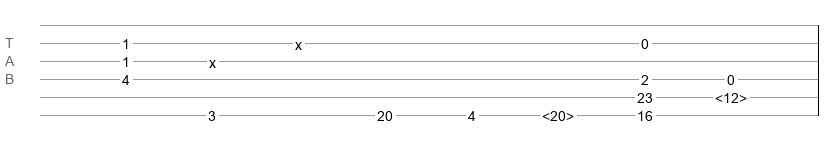0: (641, 36, 649, 46), (727, 72, 735, 82)
1: (122, 36, 130, 46), (122, 54, 130, 64)
16: (637, 108, 653, 118)
2: (641, 72, 649, 82)
20: (377, 108, 393, 118)
23: (637, 90, 653, 100)
3: (208, 108, 216, 118)
4: (122, 72, 130, 82), (468, 108, 476, 118)
harmonic: (542, 108, 574, 118), (715, 90, 747, 100)
x: (209, 55, 216, 63), (295, 37, 302, 45)
